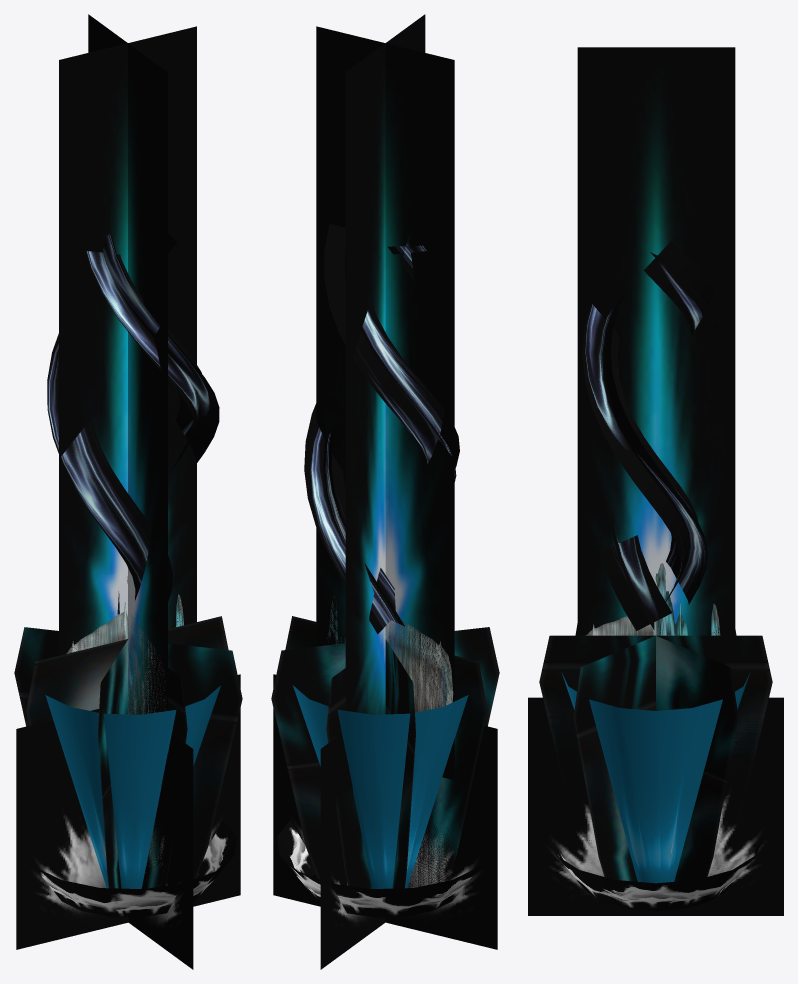
The model's file is jianyu.FBX.
3 renders of one model, left to right at view 1: azimuth 30°, elevation 25°; view 2: azimuth 150°, elevation 25°; view 3: azimuth 270°, elevation 25°, orthographic.
Visible parts, largest first — view 1: tuowei, cjb, ssy, piaodai, guangmang, huan, jian; view 2: tuowei, ssy, cjb, piaodai, guangmang, huan, jian; view 3: tuowei, ssy, cjb, piaodai, guangmang, huan, jian.
Boxes of the visible parts, x1,y1,x2,y2 form: tuowei: (59, 14, 196, 791); cjb: (16, 674, 240, 969); ssy: (14, 616, 242, 889); piaodai: (47, 233, 219, 614); guangmang: (45, 685, 220, 888); huan: (34, 820, 237, 917); jian: (66, 576, 183, 714); tuowei: (316, 14, 454, 792); ssy: (271, 616, 499, 888); cjb: (273, 674, 497, 969); piaodai: (304, 224, 459, 634); guangmang: (293, 685, 468, 888); huan: (276, 820, 479, 917); jian: (327, 596, 453, 712); tuowei: (577, 47, 735, 635); ssy: (539, 623, 772, 881); cjb: (528, 697, 783, 915); piaodai: (582, 241, 720, 630); guangmang: (561, 672, 750, 883); huan: (548, 838, 763, 910); jian: (585, 563, 720, 635).
Size of the model in its own units: 2.4 by 2.4 by 9.
7 materials, 7 textured.
